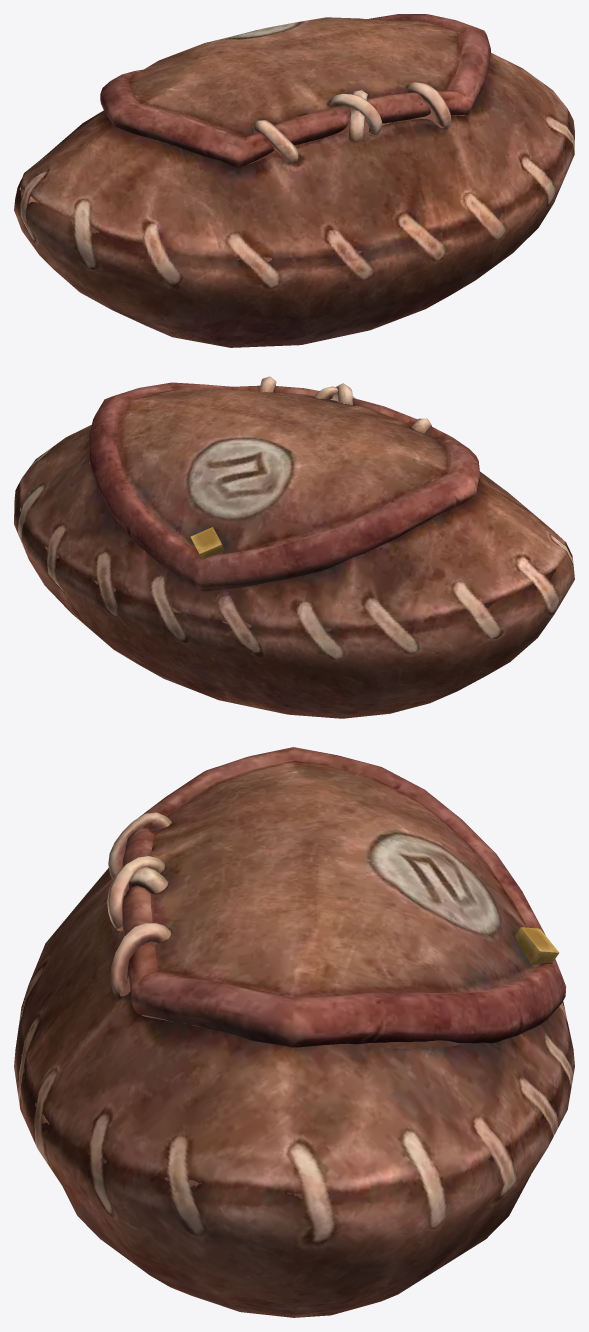
3 views of the same model, one above another, from view 1: azimuth 30°, elevation 25°; view 2: azimuth 150°, elevation 25°; view 3: azimuth 270°, elevation 25° (orthographic). The views are drawn at different scales.
Visible parts, largest first — view 1: SM_Rune_Pouch_01_LOD0; view 2: SM_Rune_Pouch_01_LOD0; view 3: SM_Rune_Pouch_01_LOD0.
Boxes of the visible parts, x1,y1,x2,y2 form: SM_Rune_Pouch_01_LOD0: (14, 14, 574, 347); SM_Rune_Pouch_01_LOD0: (14, 376, 574, 718); SM_Rune_Pouch_01_LOD0: (14, 747, 574, 1317).
Size of the model in its own units: 0.5186 by 0.2475 by 0.3221.
1 material, 1 textured.
